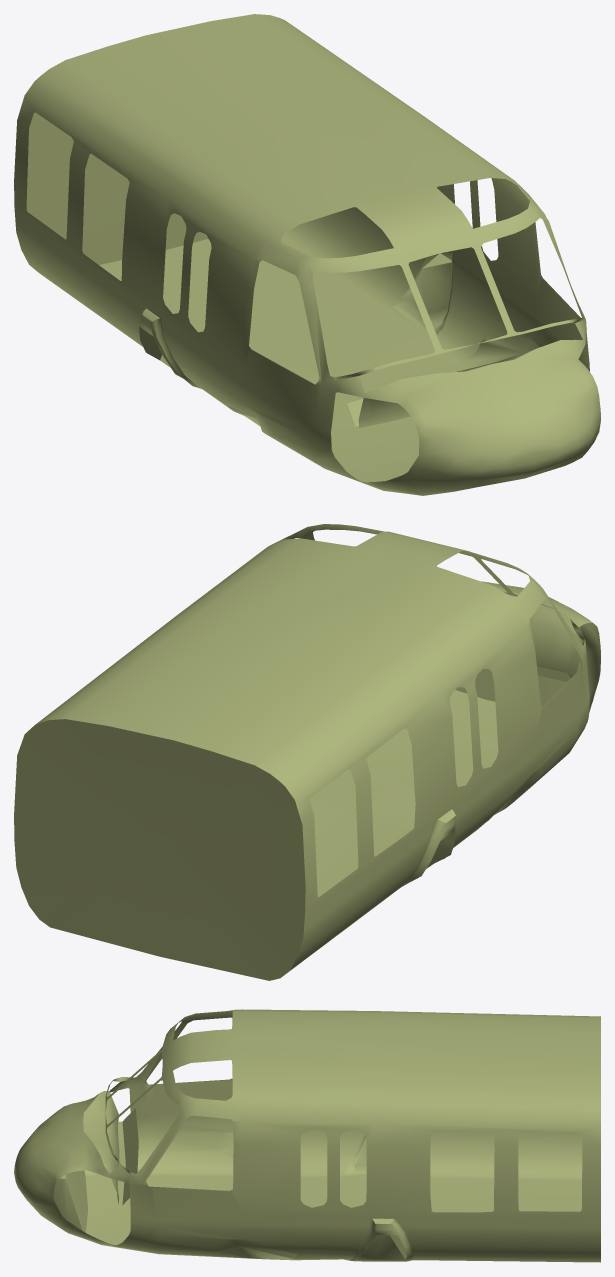
Rendered from m_airlift_68849dbd.glb.
3 views of the same model, one above another, from view 1: azimuth 30°, elevation 25°; view 2: azimuth 150°, elevation 25°; view 3: azimuth 270°, elevation 25° (orthographic). The views are drawn at different scales.
Parts seen in each view (by area): view 1: mesh; view 2: mesh; view 3: mesh.
Boxes of the visible parts, x1,y1,x2,y2 form: mesh: [14, 14, 600, 495]; mesh: [14, 524, 600, 980]; mesh: [14, 1009, 600, 1262].
Bounding box in the file's own units: 2703 × 1939 × 5779.
